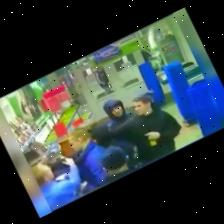person: (110, 92, 181, 162), (31, 158, 80, 211), (68, 127, 105, 193), (101, 147, 136, 185)
